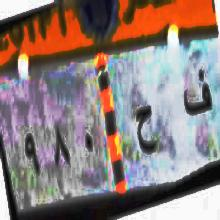0: (83, 127, 97, 157)
7aa: (135, 100, 157, 160)
8: (52, 118, 71, 181)
9: (25, 129, 40, 186)
faa: (183, 68, 212, 118)
